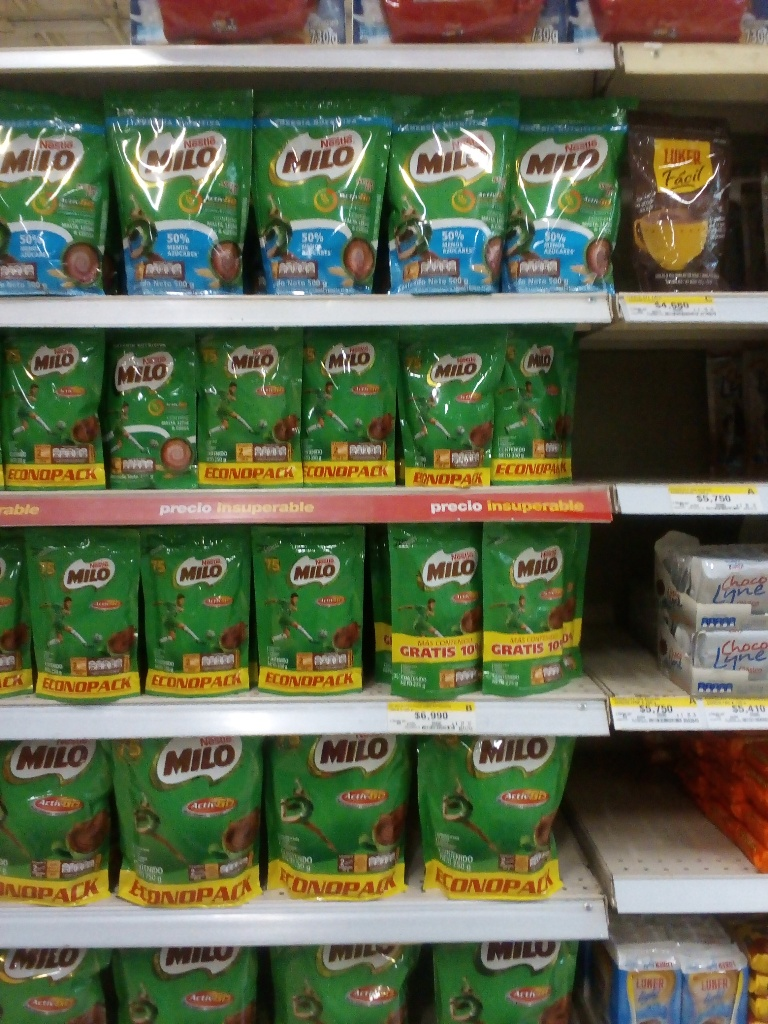COL0170205DYP50000: (1, 85, 109, 295)
